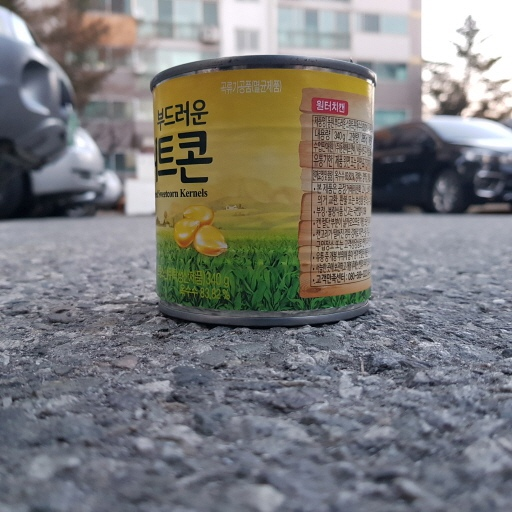Metal_1: (149, 53, 379, 326)
